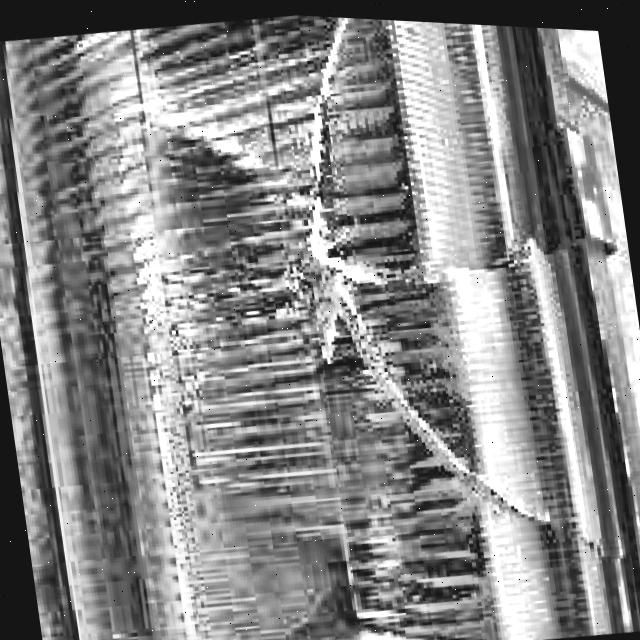head_lamp: (266, 14, 590, 519)
